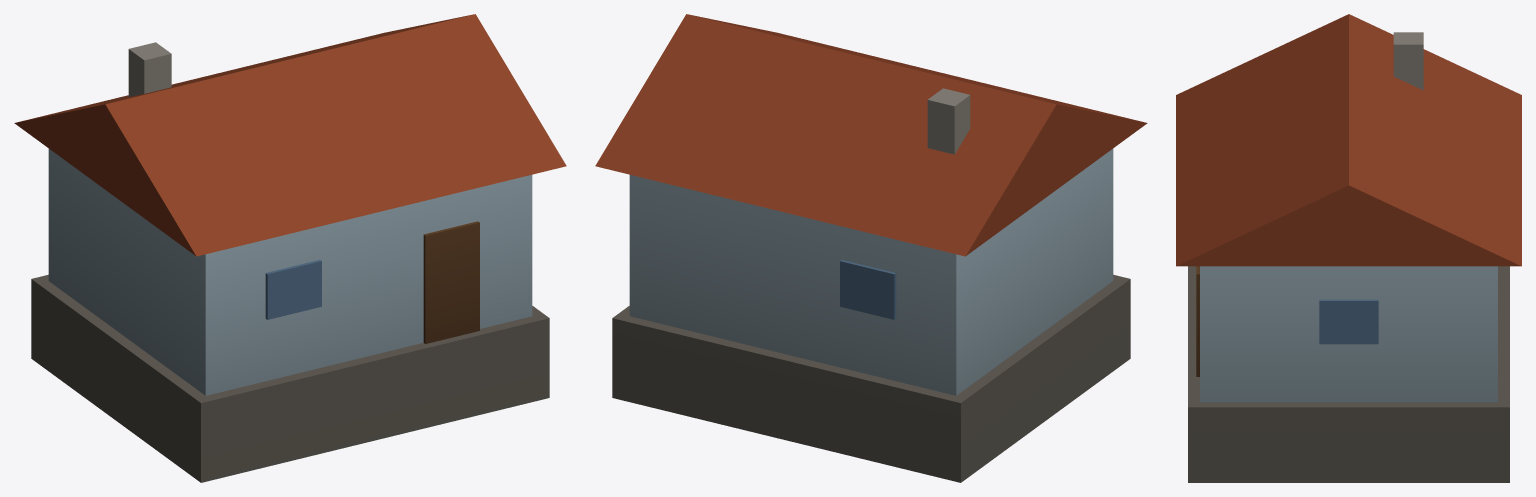
File: casinha_azul.glb
3 renders of one model, left to right at view 1: azimuth 30°, elevation 25°; view 2: azimuth 150°, elevation 25°; view 3: azimuth 270°, elevation 25°, orthographic. The views are drawn at different scales.
Parts seen in each view (by area): view 1: casinha_azul_liso; view 2: casinha_azul_liso; view 3: casinha_azul_liso.
Part boxes in pixels (x1=…): casinha_azul_liso: x1=14, y1=14, x2=566, y2=482; casinha_azul_liso: x1=595, y1=14, x2=1147, y2=482; casinha_azul_liso: x1=1176, y1=14, x2=1521, y2=482.
Bounding box in the file's own units: 6.8 × 5.8 × 5.8.
